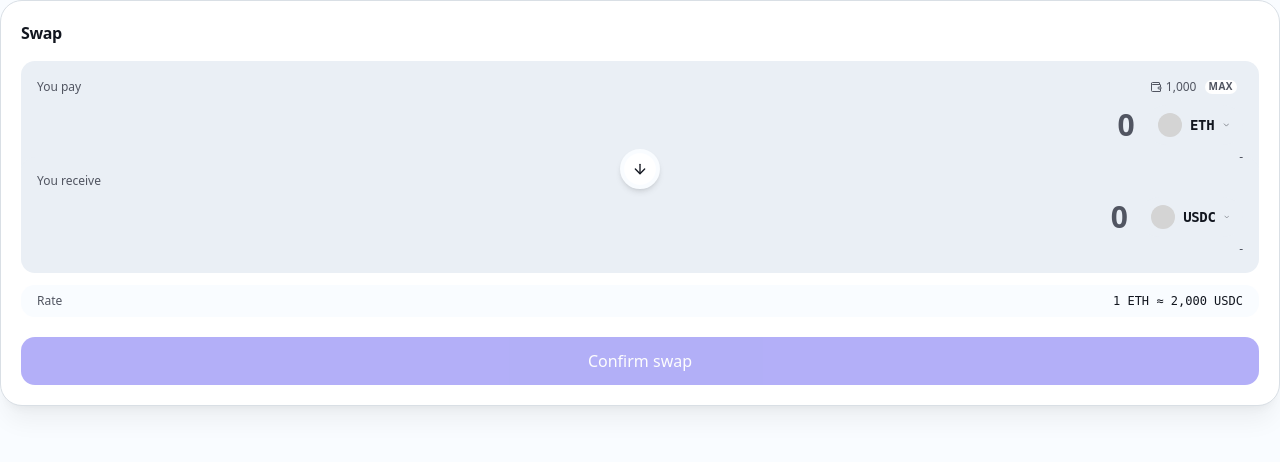
<SwapForm /> › shows an error and disables submit when amount is empty
Expected: the button "Confirm swap" is disabled, [21,337,1259,385]
Type "1" into the field named "You pay amount".
click(586, 125); type("1")  # box [37,107,1134,143]
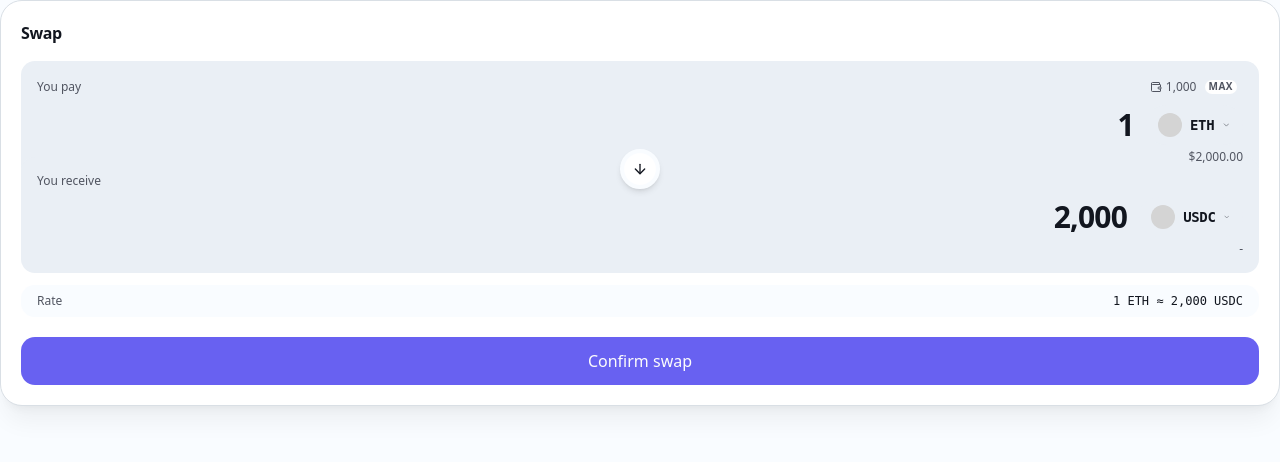
Expected: the button "Confirm swap" is enabled, [21,337,1259,385]
Clear the field named "You pay amount" at [586, 125], box [37,107,1134,143]
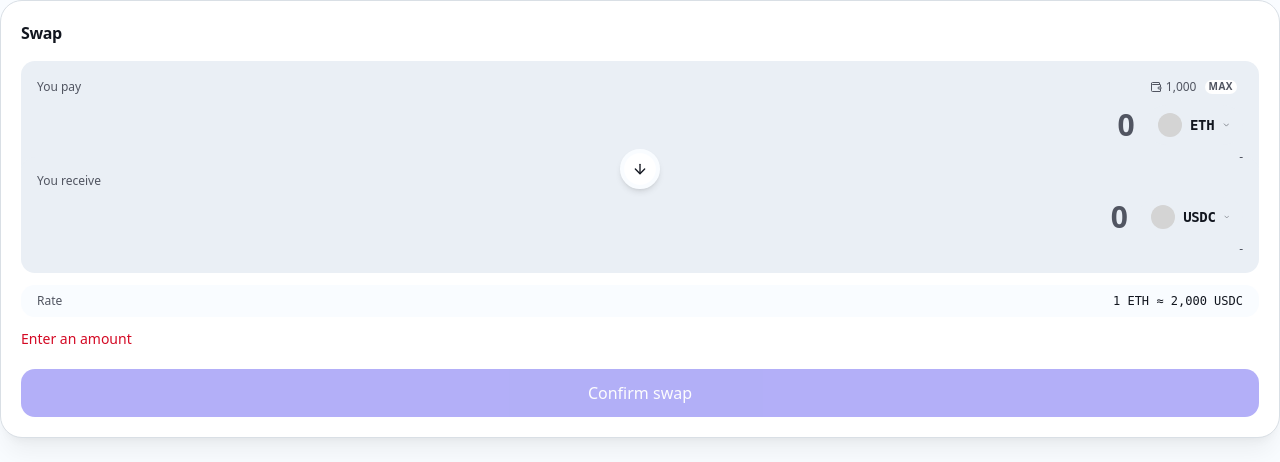
Expected: the button "Confirm swap" is disabled, [21,369,1259,417]
